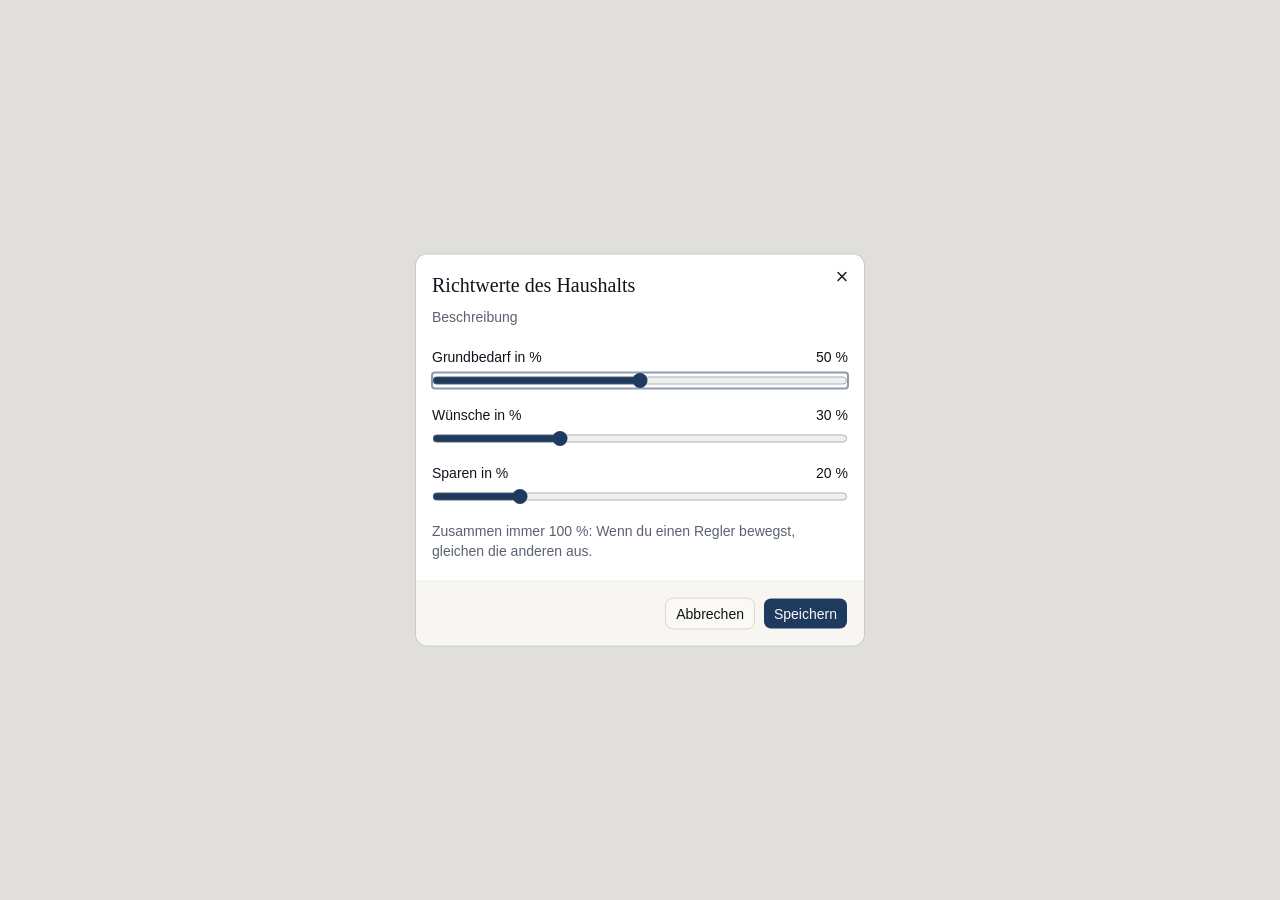
Test case: quota dialog › shows one decimal once a value is fractional, so all three still add up to 100
Set the slider labelled "Grundbedarf in %" to "33" at [572, 380], box [432,372,848,388]
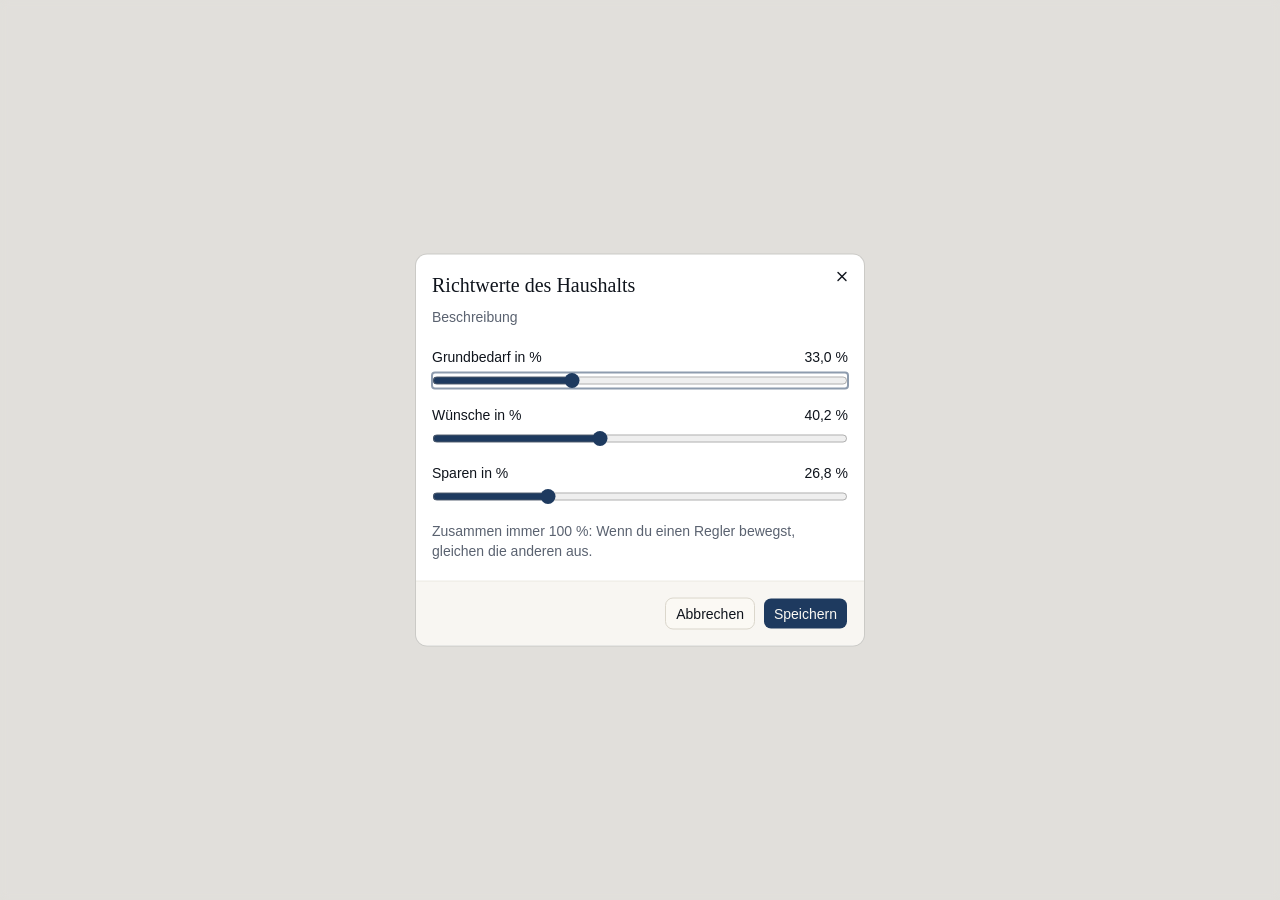
Expected: the text "33,0 %" is shown, [804,346,848,366]
Expected: the text "40,2 %" is shown, [804,404,848,424]
Expected: the text "26,8 %" is shown, [804,462,848,482]
